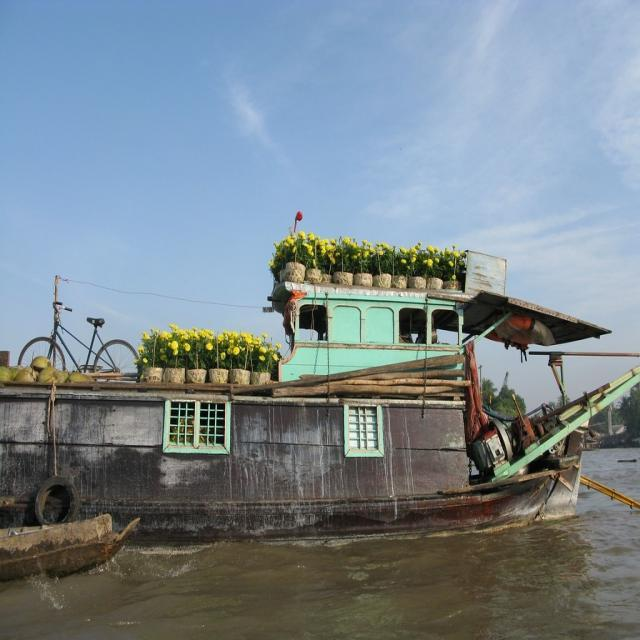boat: (8, 263, 618, 538)
